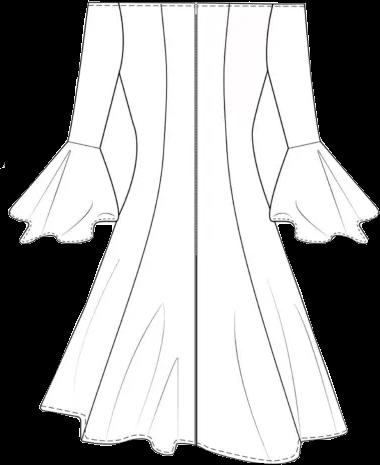Bodice: (120, 2, 272, 141)
Hemline: (37, 406, 348, 464)
Neckline: (119, 0, 275, 8)
Skirt: (39, 142, 347, 463)
Sleeve: (8, 2, 123, 245), (267, 2, 379, 244)
Sleeveline: (264, 2, 278, 77), (117, 2, 126, 79), (65, 138, 101, 150), (288, 137, 322, 148)
